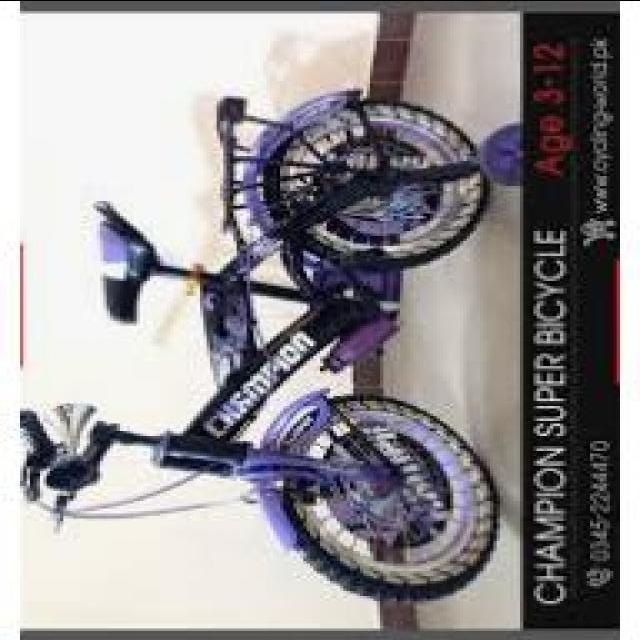bicycle: (24, 71, 510, 596)
